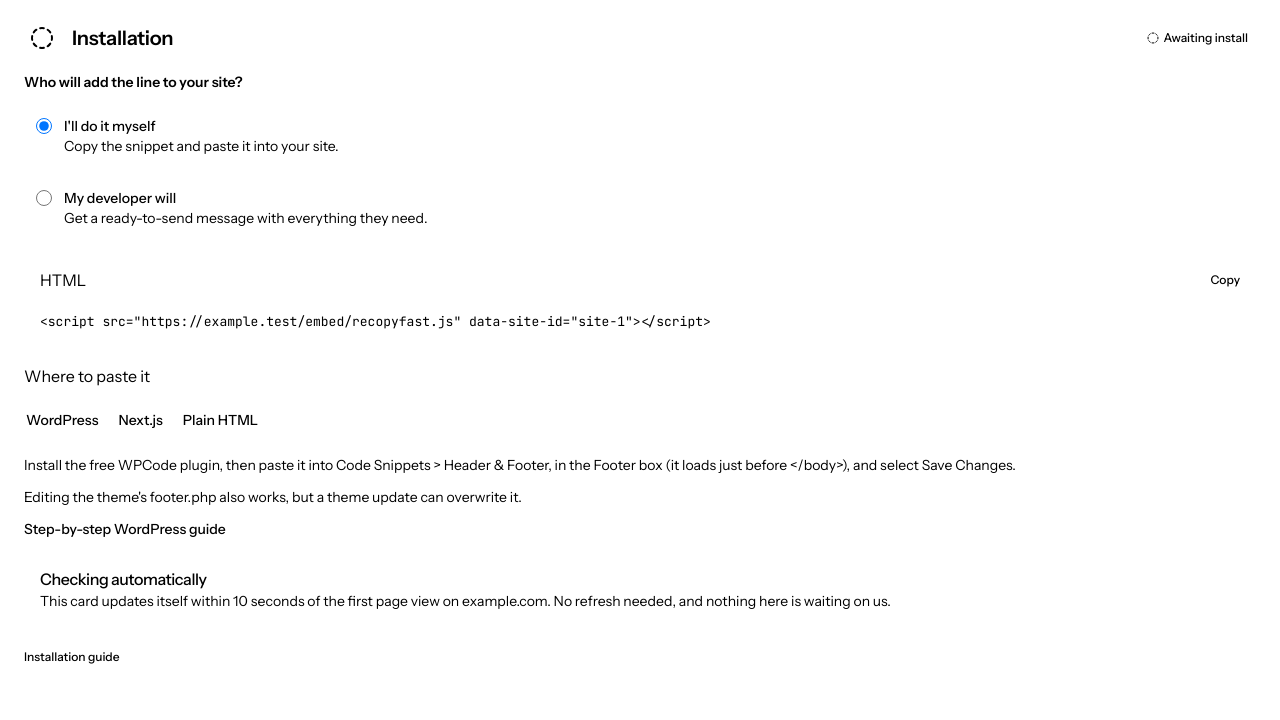
Test: SiteInstallationCard › awaiting install › switches the instructions with the stack
This screenshot has width=1280, height=720.
Press the mouse on the tab "Next.js" at (140, 420), box [116, 400, 165, 440]
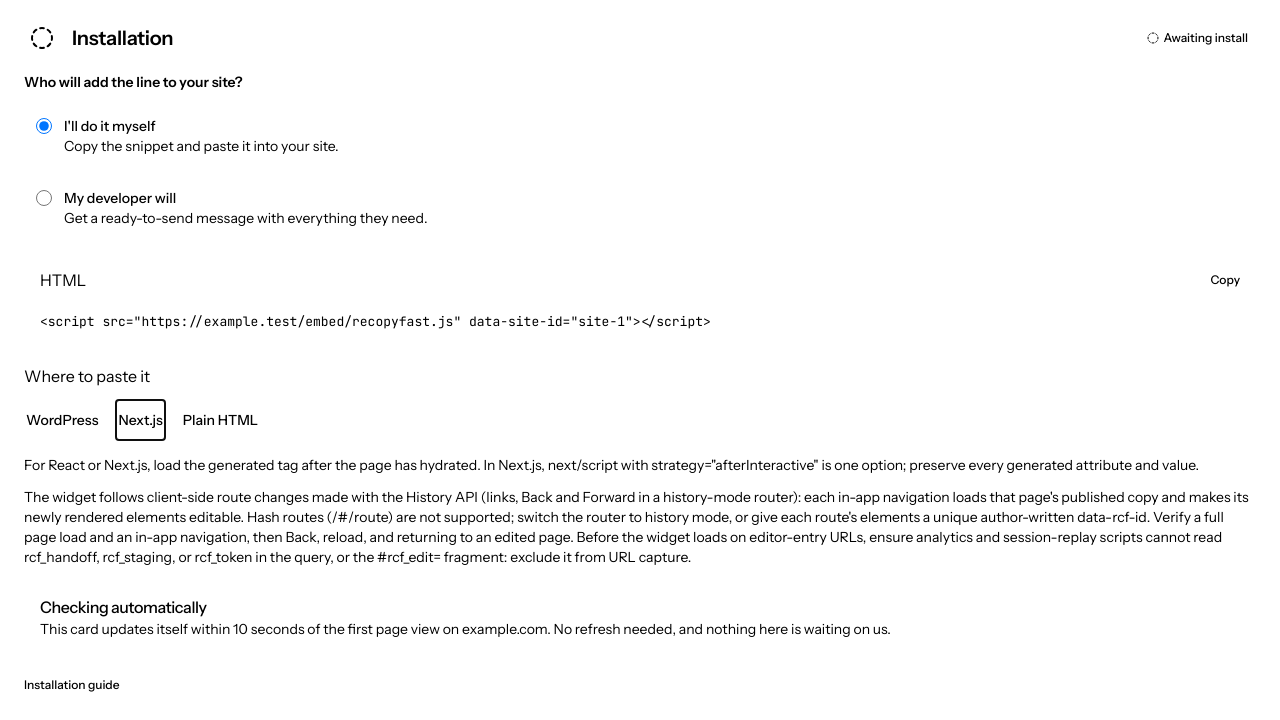
Expected: the text "after the page has hydrated" is shown, [24, 456, 1199, 474]
Expected: the text "rcf_handoff" is shown, [24, 488, 1249, 566]
